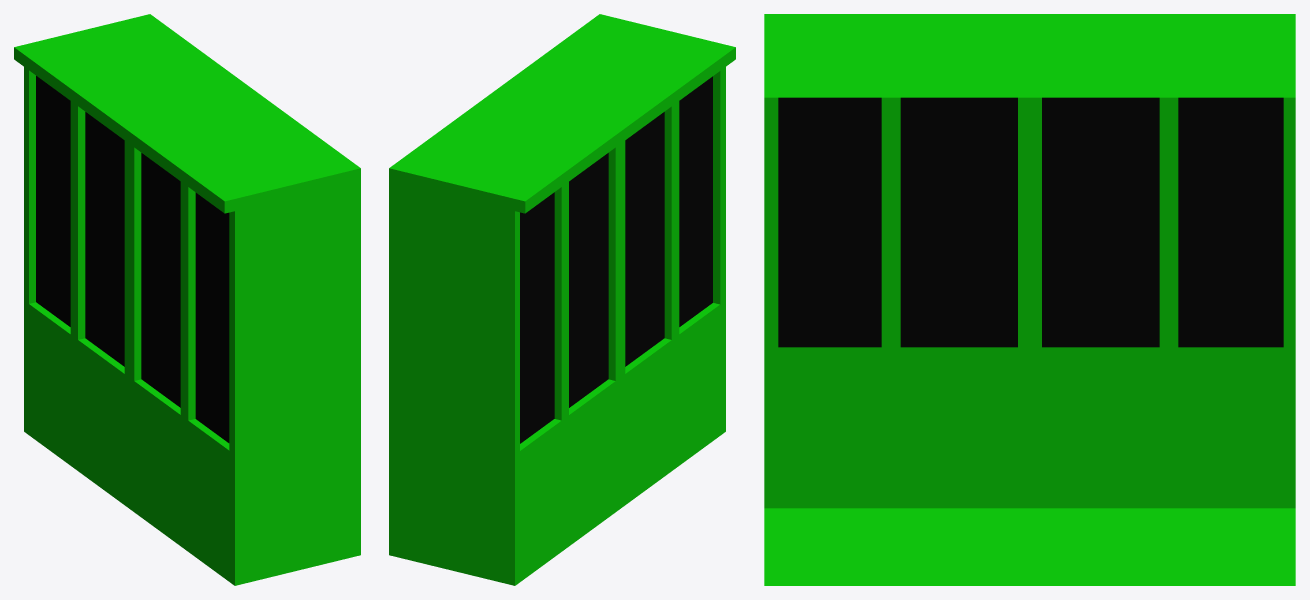
File: balcon 3.fbx
3 views of the same model, side by side, from view 1: azimuth 30°, elevation 25°; view 2: azimuth 150°, elevation 25°; view 3: azimuth 270°, elevation 25° (orthographic). The views are drawn at different scales.
Parts seen in each view (by area): view 1: Плоскость.003; view 2: Плоскость.003; view 3: Плоскость.003.
Part boxes in pixels (box(x1,y1,x2,y2)): Плоскость.003: box(14, 14, 360, 585); Плоскость.003: box(389, 14, 735, 585); Плоскость.003: box(764, 14, 1295, 585).
Size of the model in its own units: 159 by 433 by 427.
